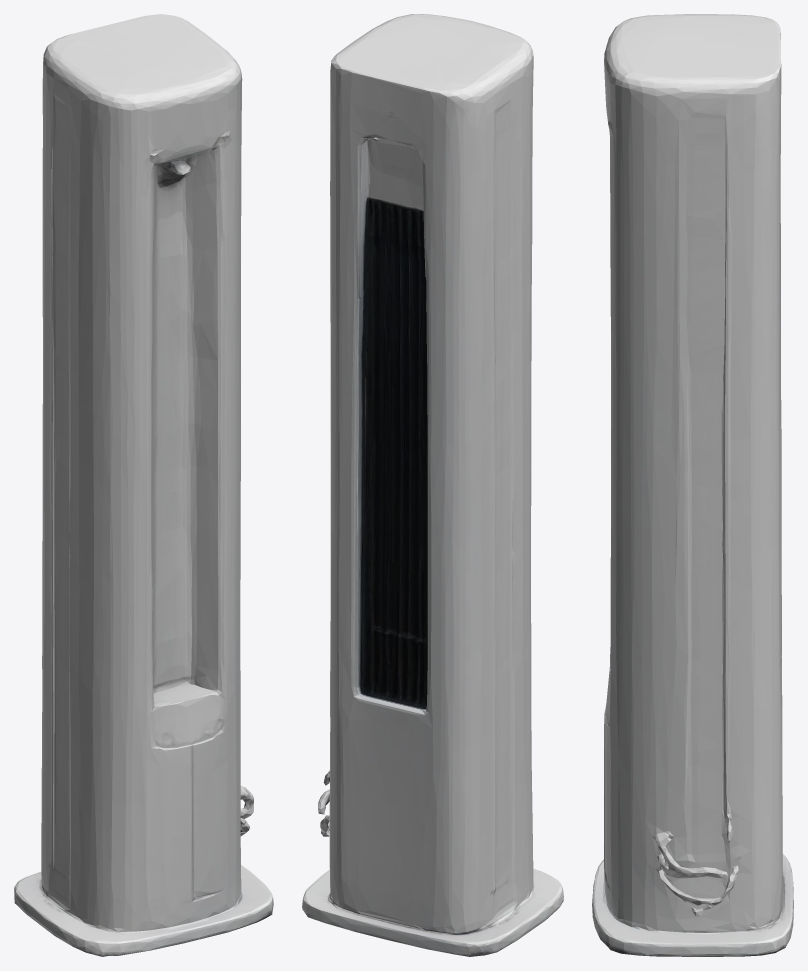
The model's file is ast_23dd1b781087.glb.
3 views of the same model, side by side, from view 1: azimuth 30°, elevation 25°; view 2: azimuth 150°, elevation 25°; view 3: azimuth 270°, elevation 25° (orthographic).
Parts seen in each view (by area): view 1: geometry_0; view 2: geometry_0; view 3: geometry_0.
Boxes of the visible parts, x1,y1,x2,y2 form: geometry_0: (14, 14, 273, 956); geometry_0: (302, 14, 563, 956); geometry_0: (592, 14, 793, 956).
Size of the model in its own units: 0.2545 by 0.9997 by 0.2115.
1 material, 1 textured.
